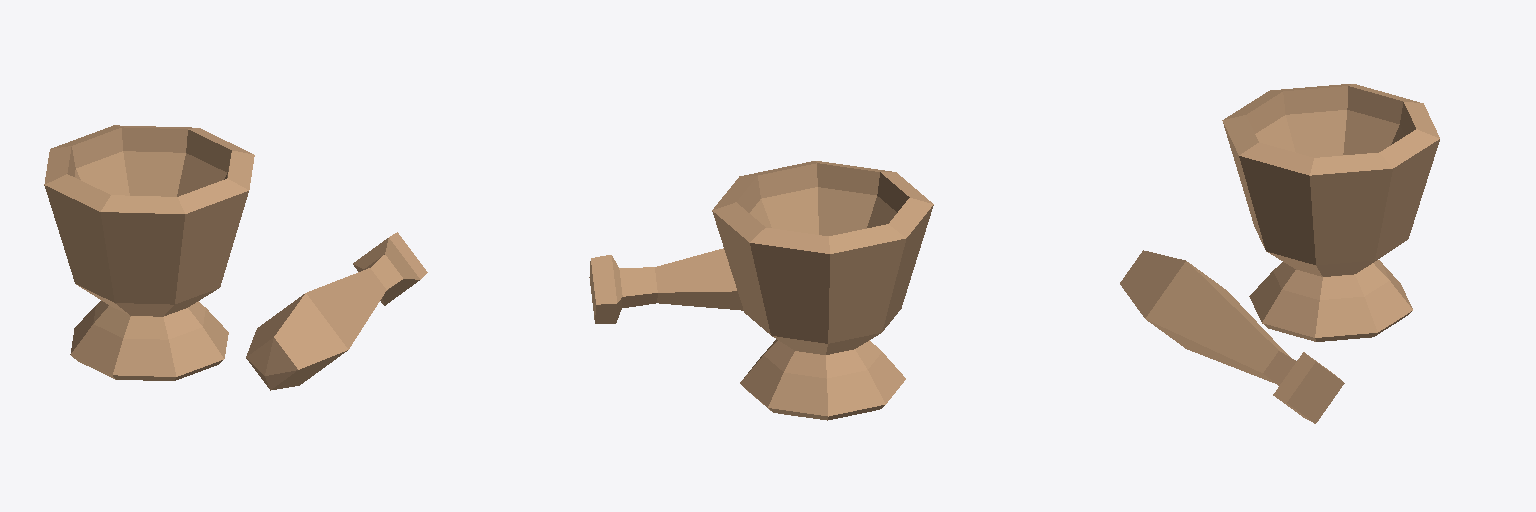
The model's file is mortar_pestle.obj.
The picture shows the model from 3 angles: view 1: azimuth 30°, elevation 25°; view 2: azimuth 150°, elevation 25°; view 3: azimuth 270°, elevation 25°; orthographic projection.
Visible parts, largest first — view 1: mortar_pestle.001; view 2: mortar_pestle.001; view 3: mortar_pestle.001.
Part boxes in pixels (bbox=[...]): mortar_pestle.001: bbox=[44, 125, 427, 390]; mortar_pestle.001: bbox=[589, 161, 933, 420]; mortar_pestle.001: bbox=[1120, 84, 1439, 423].
Size of the model in its own units: 0.4252 by 0.2196 by 0.3372.